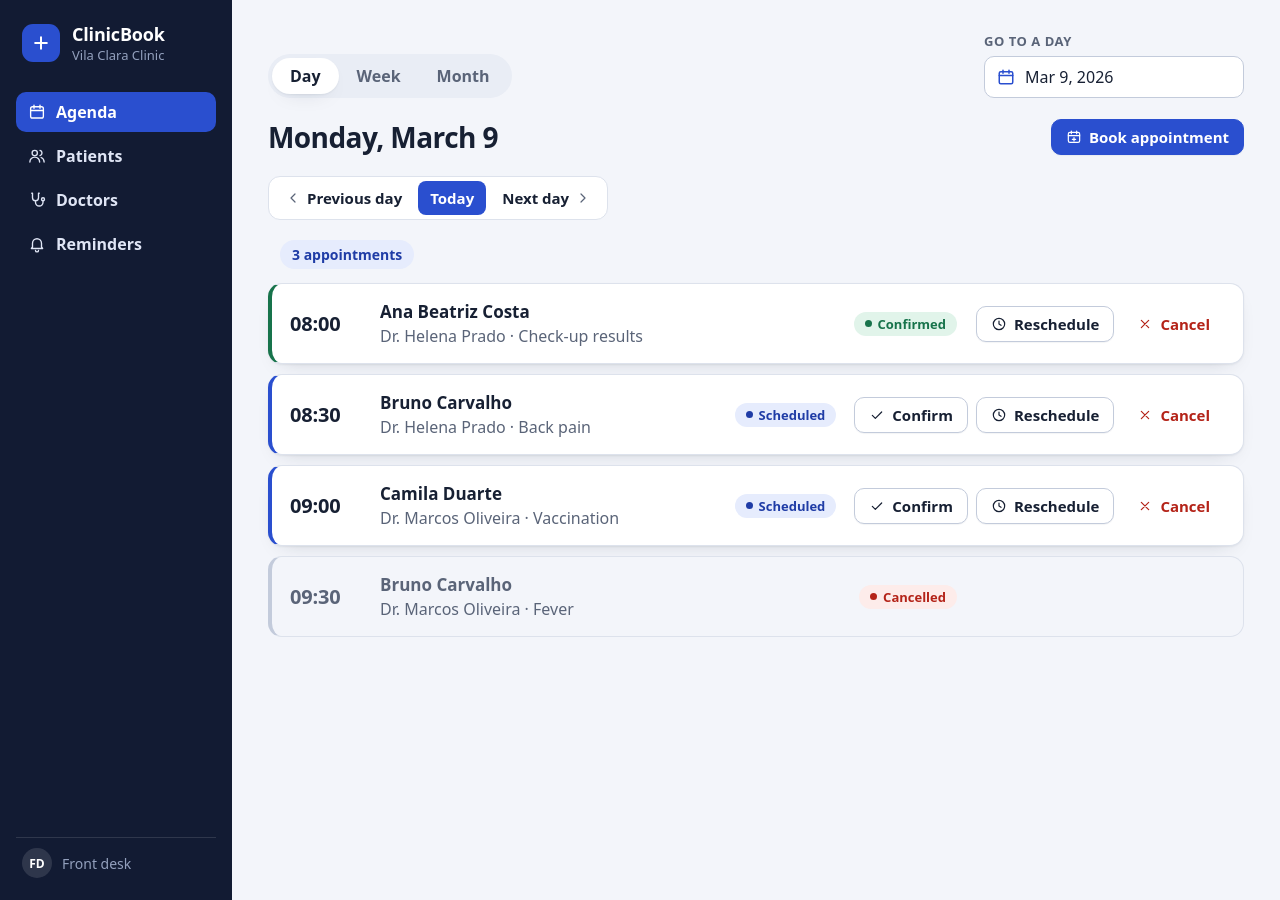
Test case: the agenda › shows what the server answered when a change is refused, and loads the list again
Expected: the navigation bar named "Main" is shown, [16,92,216,264]
Click the button with aria-label "Confirm Bruno Carvalho at 08:30" at (911, 414), box [854,396,968,432]
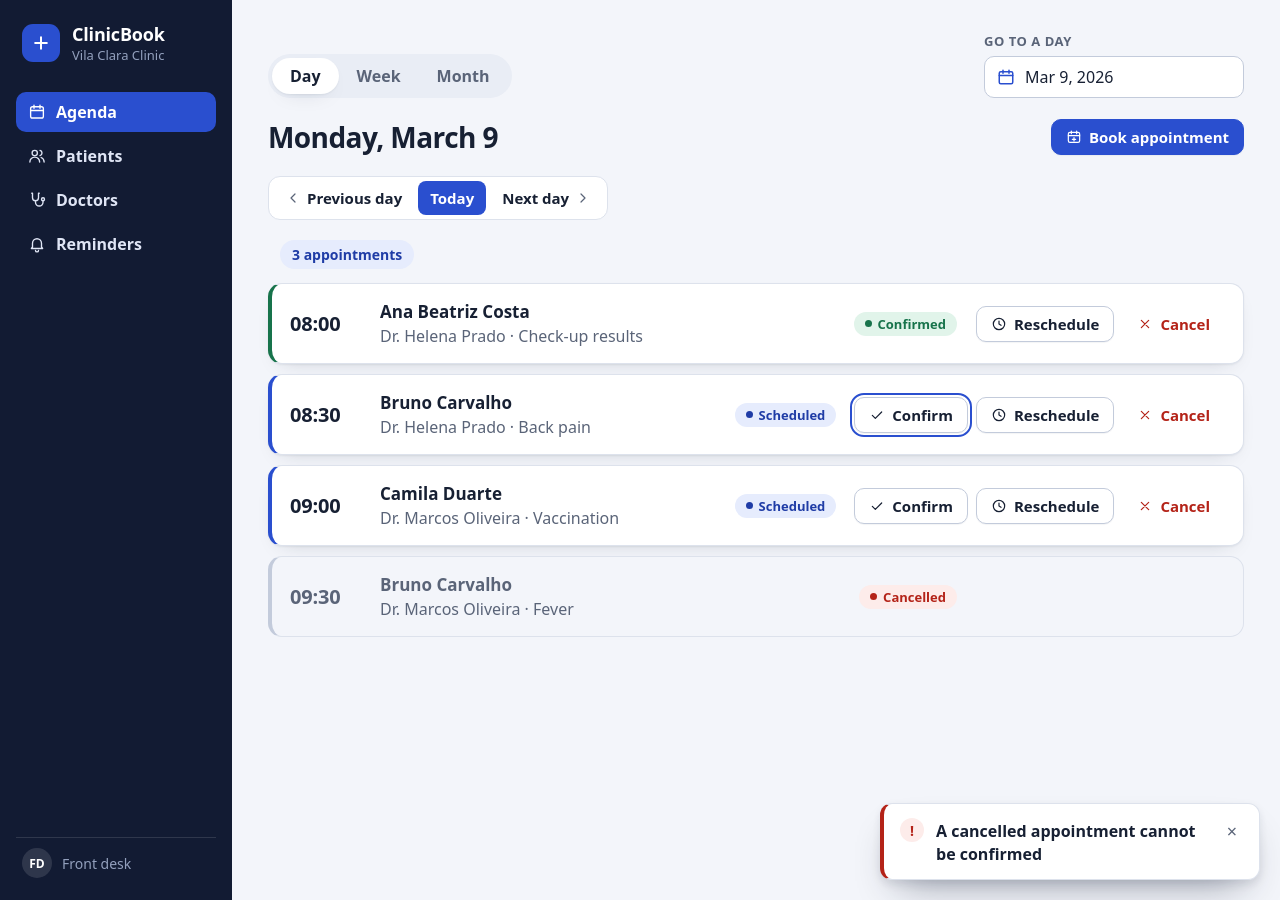
Now the message reads "A cancelled appointment cannot be confirmed", box [936,820,1196,865]
